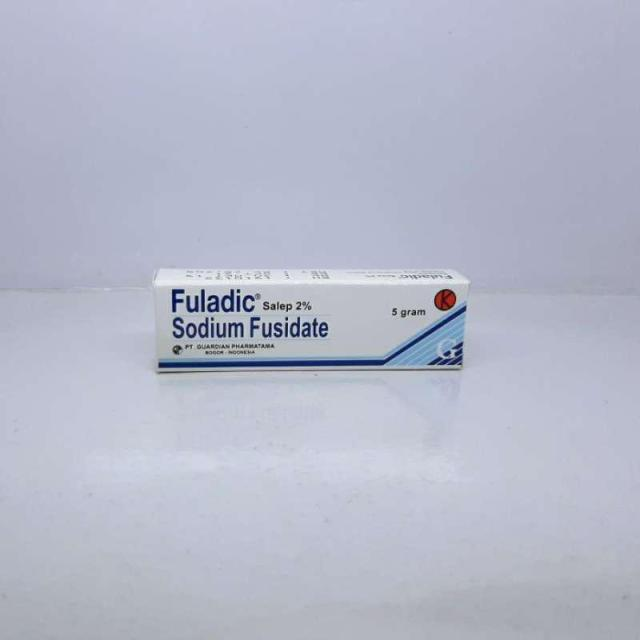drug-name: (168, 286, 262, 314)
